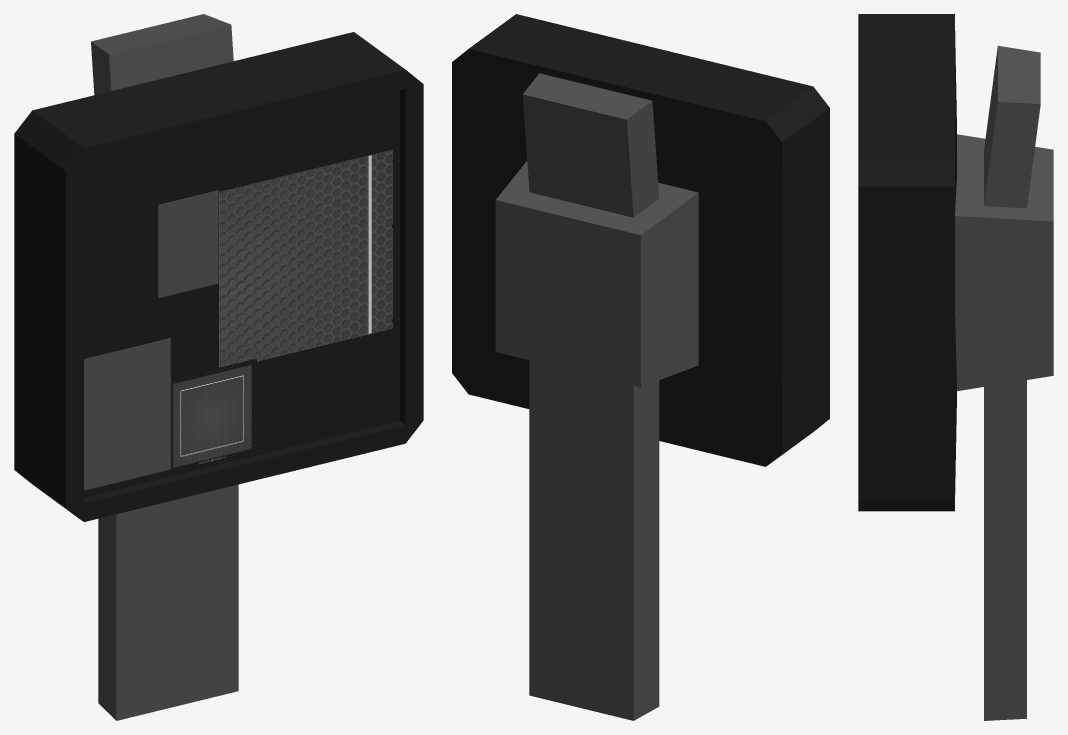
The model's file is AD Board.FBX.
3 views of the same model, side by side, from view 1: azimuth 30°, elevation 25°; view 2: azimuth 150°, elevation 25°; view 3: azimuth 270°, elevation 25° (orthographic). The views are drawn at different scales.
Parts seen in each view (by area): view 1: Box003, scream; view 2: Box003; view 3: Box003.
Part boxes in pixels (left/top/right/bottom): Box003: left=14, top=14, right=423, bottom=720; scream: left=84, top=90, right=399, bottom=497; Box003: left=452, top=14, right=829, bottom=720; Box003: left=858, top=14, right=1053, bottom=720.
Size of the model in its own units: 39.37 by 69.58 by 19.92.
